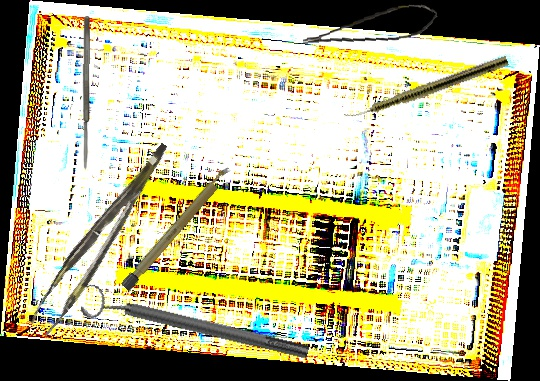Fixation Ring: (79, 280, 312, 372)
Handpiece: (342, 53, 510, 125)
Micro Scissor: (300, 1, 440, 49)
Scalpel Handle: (120, 164, 234, 292)
Spatula Surgical: (80, 15, 92, 171)
Tissue Forceps: (18, 142, 190, 338)
